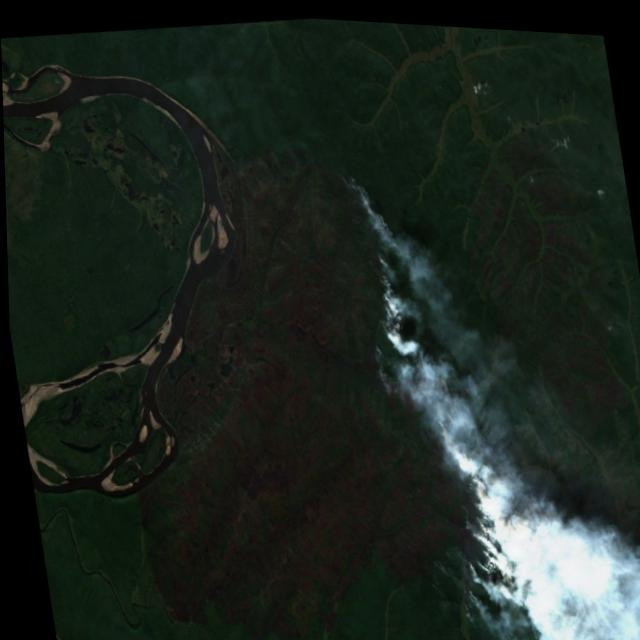fire: (409, 367, 517, 633), (360, 245, 425, 353)
